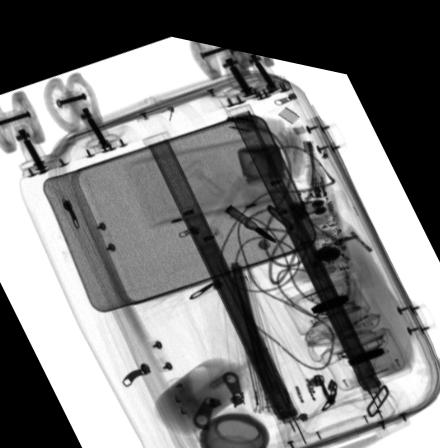Bullet: (223, 193, 278, 231)
